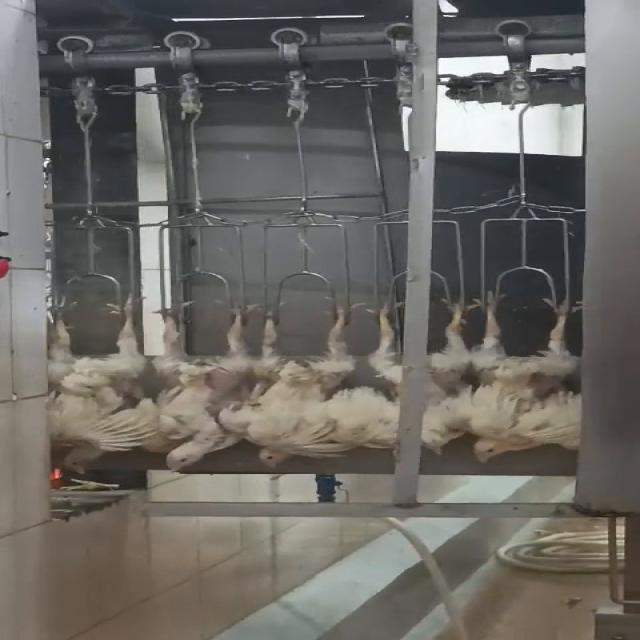chicken: (245, 296, 392, 470), (350, 295, 491, 459), (462, 296, 587, 467), (142, 298, 262, 476), (39, 298, 144, 480)
